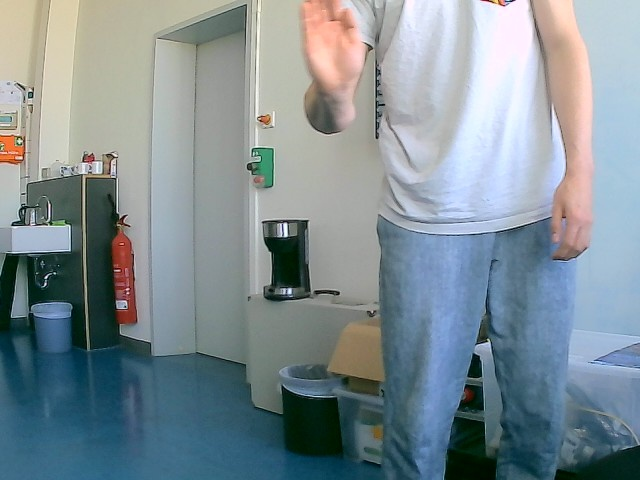no_gesture: (547, 173, 599, 266)
stop: (299, 0, 368, 95)
